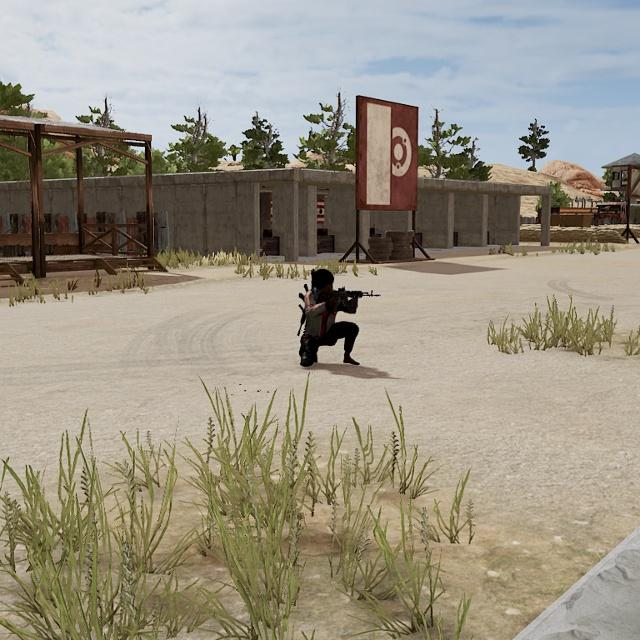head: (310, 268, 334, 300)
people: (297, 267, 363, 367)
